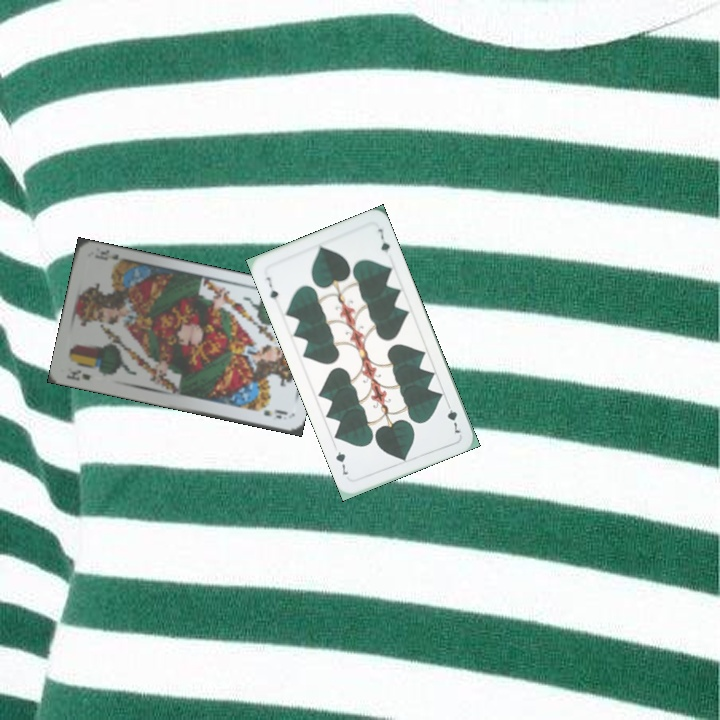EK: (63, 365, 93, 383)
G7: (442, 398, 463, 436), (262, 273, 281, 302)
